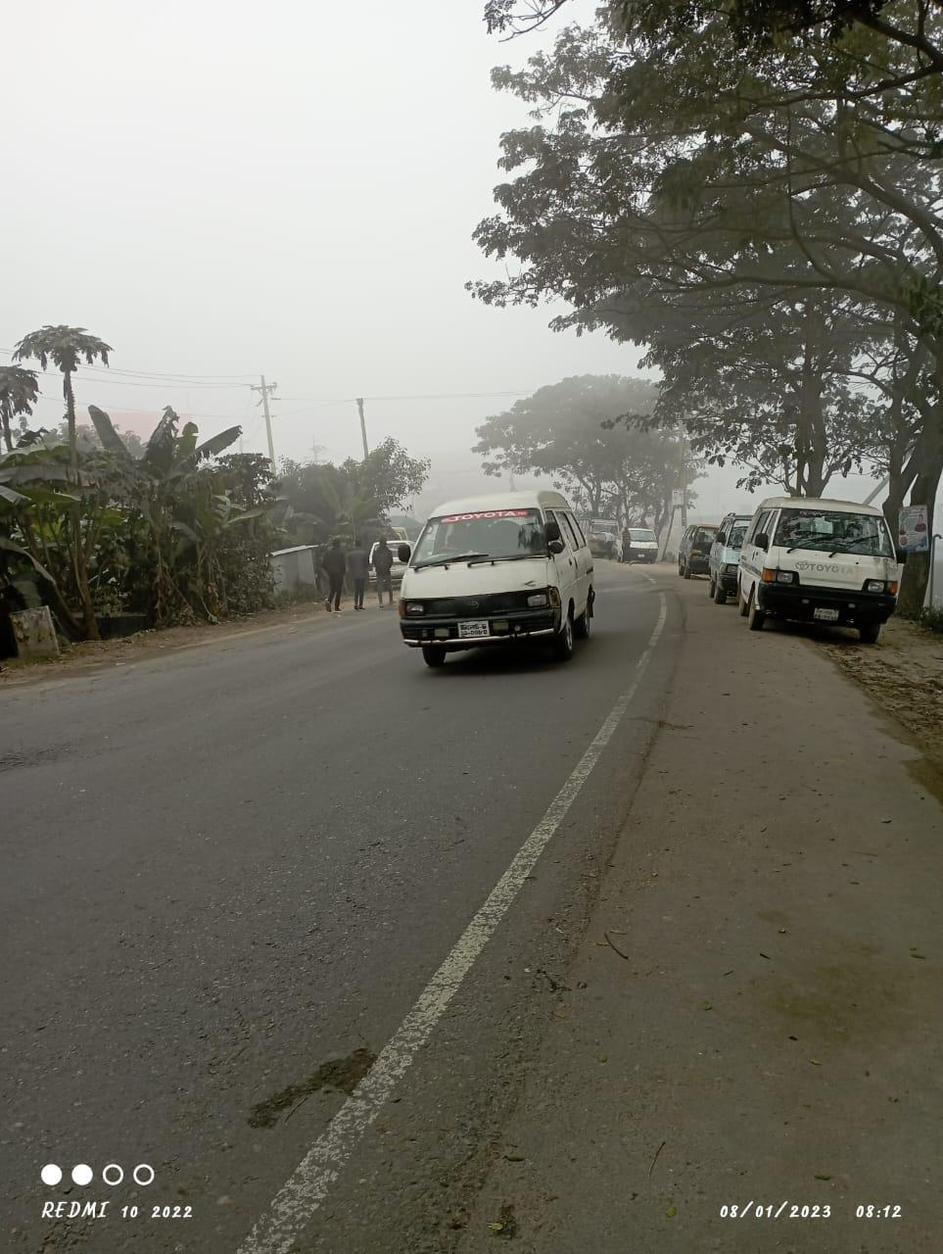Car: (390, 473, 608, 686), (734, 498, 907, 644), (621, 516, 666, 560)
